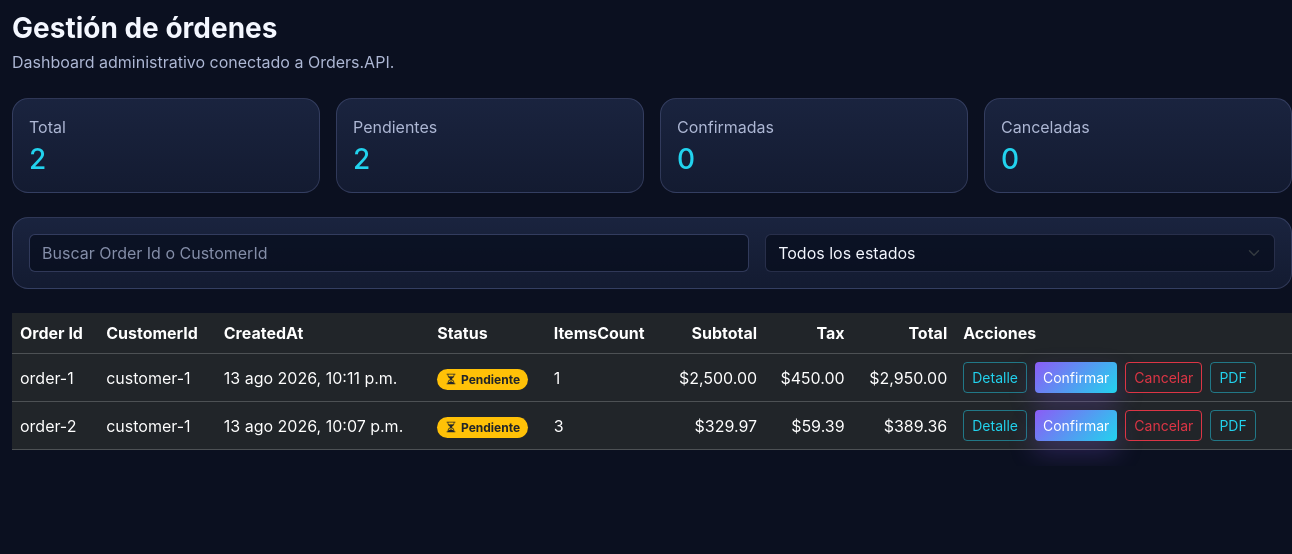
it: AdminOrdersPage › transicion invalida muestra error 409 controlado
Expected: the text "order-1" is shown, x1=12 y1=354 x2=98 y2=402
Click the button "Cancelar" in the row of "order-1" at [1164, 378], box x1=1125 y1=362 x2=1202 y2=393
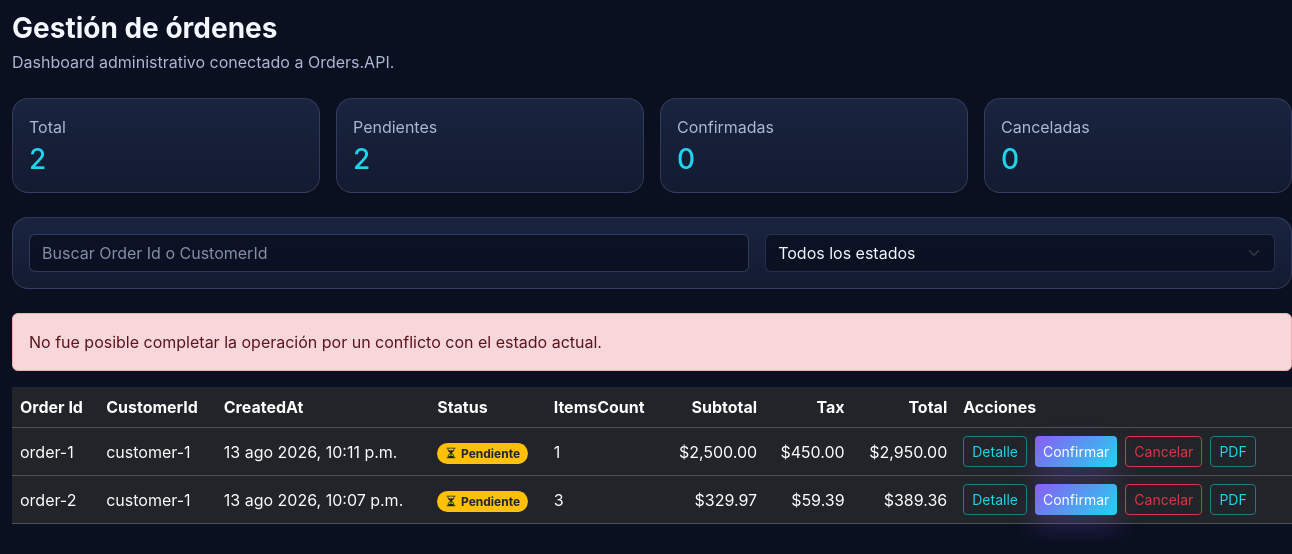
Expected: the message shows "conflicto", x1=29 y1=332 x2=602 y2=352
